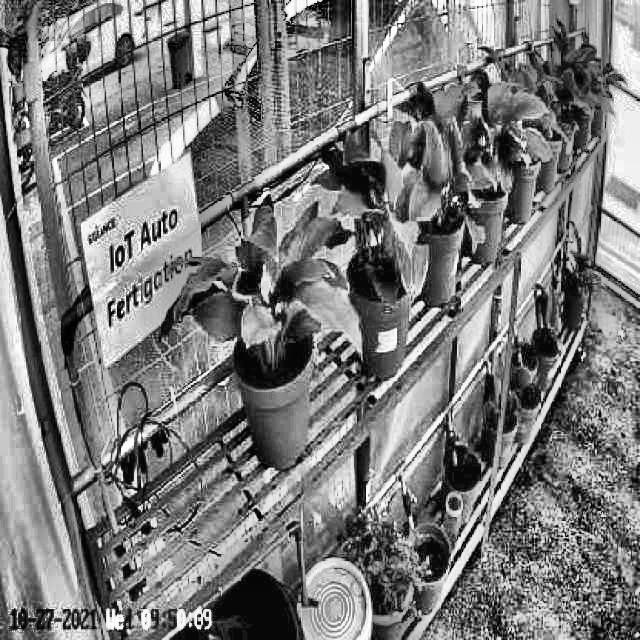plants: (154, 194, 362, 380), (321, 136, 430, 316), (387, 87, 482, 255), (445, 68, 553, 192)
